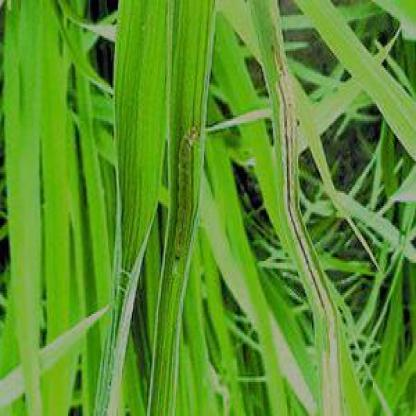leaf-folder: (163, 120, 208, 273)
